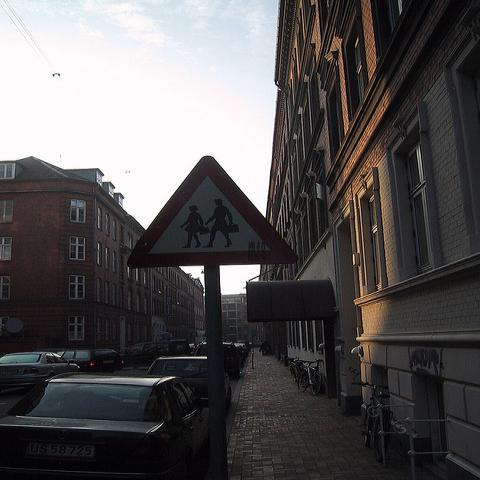car: (0, 371, 210, 478), (143, 356, 232, 404), (0, 350, 81, 387), (118, 339, 192, 367), (194, 341, 241, 378), (58, 348, 123, 373), (236, 345, 248, 356)
